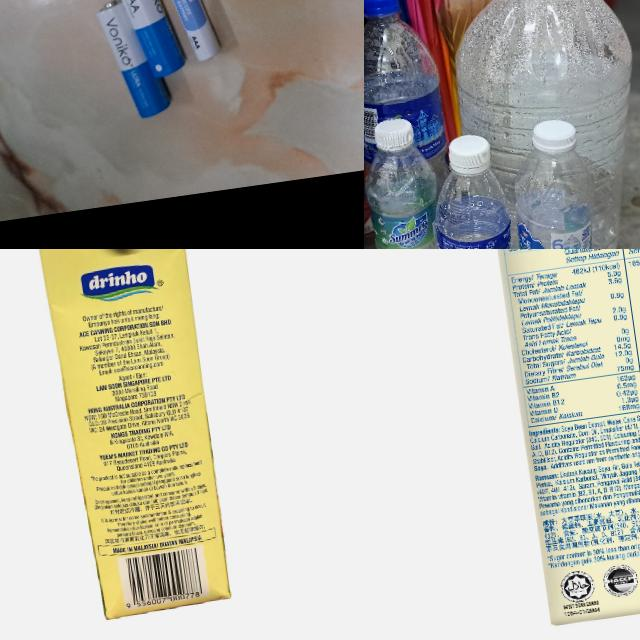bateria: (95, 0, 175, 123), (108, 0, 187, 82), (156, 0, 223, 65)
caixinha: (25, 249, 240, 623), (466, 249, 640, 629)
garrafa plástica: (443, 0, 640, 249), (364, 7, 462, 231), (511, 142, 614, 249), (364, 140, 456, 249), (430, 162, 521, 249)
tampa plástica: (524, 111, 580, 156), (444, 131, 494, 179), (370, 110, 415, 156), (364, 0, 401, 21)
